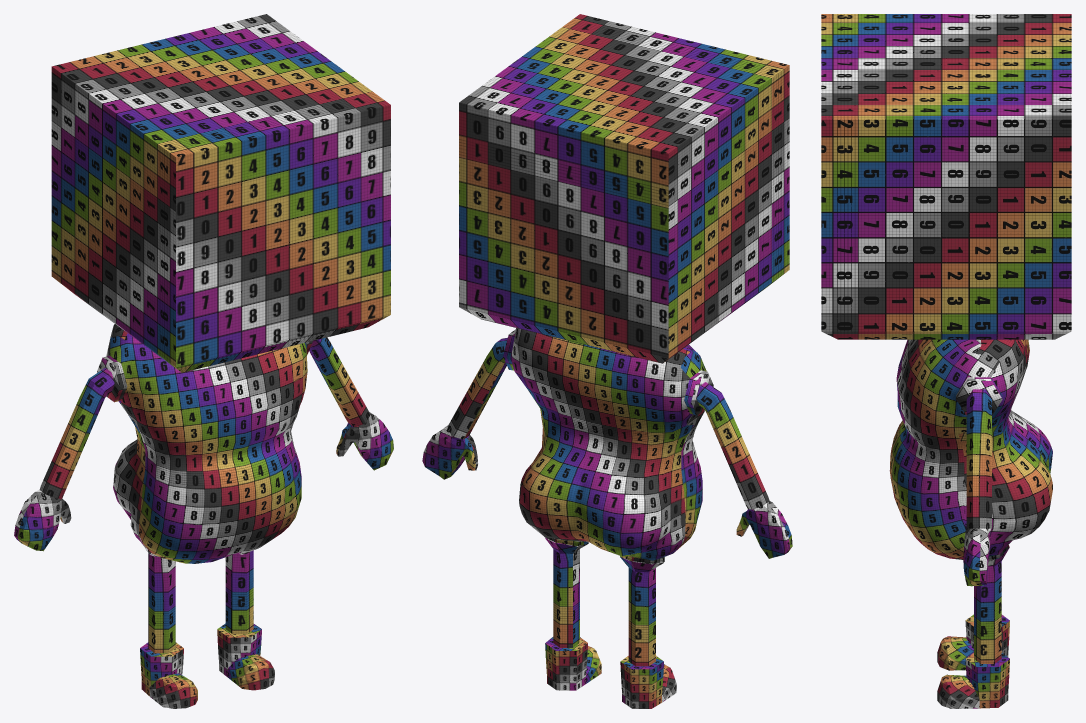
The model's file is CharacterModel_ex1.fbx.
The picture shows the model from 3 angles, left to right: view 1: azimuth 30°, elevation 25°; view 2: azimuth 150°, elevation 25°; view 3: azimuth 270°, elevation 25°; orthographic projection. The views are drawn at different scales.
Visible parts, largest first — view 1: CharacterHead_Edit001, BoxBody_VEd001, ArmL003, LegL002, LegL003, ArmL005; view 2: CharacterHead_Edit001, BoxBody_VEd001, LegL002, ArmL003, LegL003, ArmL005; view 3: CharacterHead_Edit001, BoxBody_VEd001, LegL003, ArmL005, LegL002.
Part boxes in pixels (x1,y1,x2,y2): CharacterHead_Edit001: [51, 14, 390, 372]; BoxBody_VEd001: [97, 324, 312, 563]; ArmL003: [14, 368, 114, 551]; LegL002: [140, 542, 197, 708]; LegL003: [217, 550, 274, 690]; ArmL005: [309, 337, 393, 470]; CharacterHead_Edit001: [459, 14, 789, 363]; BoxBody_VEd001: [503, 328, 713, 563]; LegL002: [620, 556, 676, 708]; ArmL003: [696, 382, 792, 558]; LegL003: [545, 538, 601, 690]; ArmL005: [422, 337, 507, 479]; CharacterHead_Edit001: [821, 14, 1071, 339]; BoxBody_VEd001: [889, 339, 1052, 560]; LegL003: [937, 547, 1009, 708]; ArmL005: [963, 389, 991, 586]; LegL002: [937, 614, 1009, 670].
Size of the model in its own units: 524 by 300 by 813.
1 material, 1 textured.
